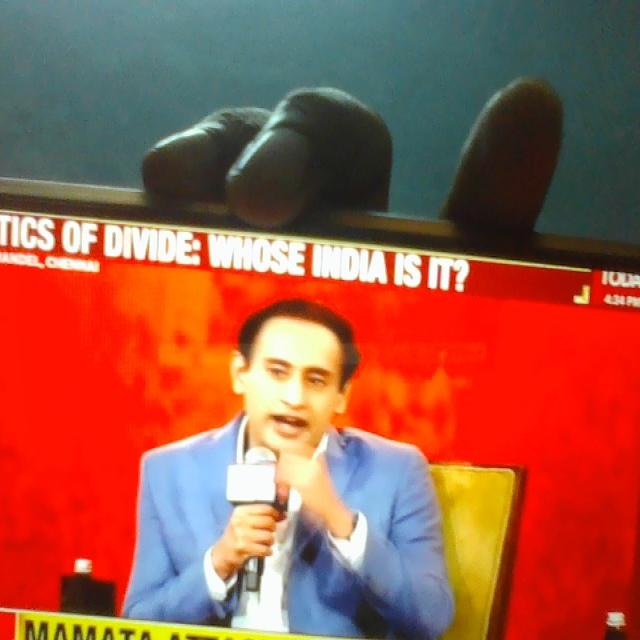fake: (237, 271, 352, 488)
